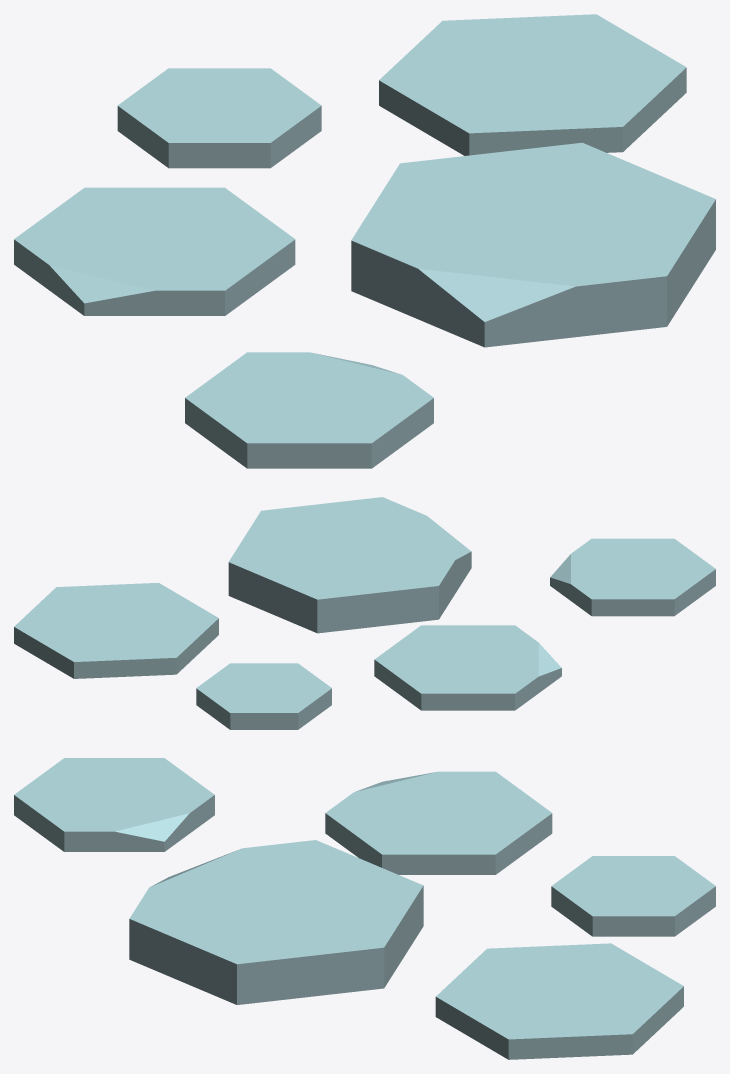
Rendered from path_stoneCorner.dae.
3 renders of one model, top to bottom at view 1: azimuth 30°, elevation 25°; view 2: azimuth 150°, elevation 25°; view 3: azimuth 270°, elevation 25°, orthographic. The views are drawn at different scales.
Parts seen in each view (by area): view 1: path_stoneCorner; view 2: path_stoneCorner; view 3: path_stoneCorner.
Boxes of the visible parts, <box> form: path_stoneCorner: <box>14,14,715,468</box>; path_stoneCorner: <box>14,497,715,729</box>; path_stoneCorner: <box>14,758,715,1059</box>.
Size of the model in its own units: 0.7383 by 0.05 by 0.7784.
